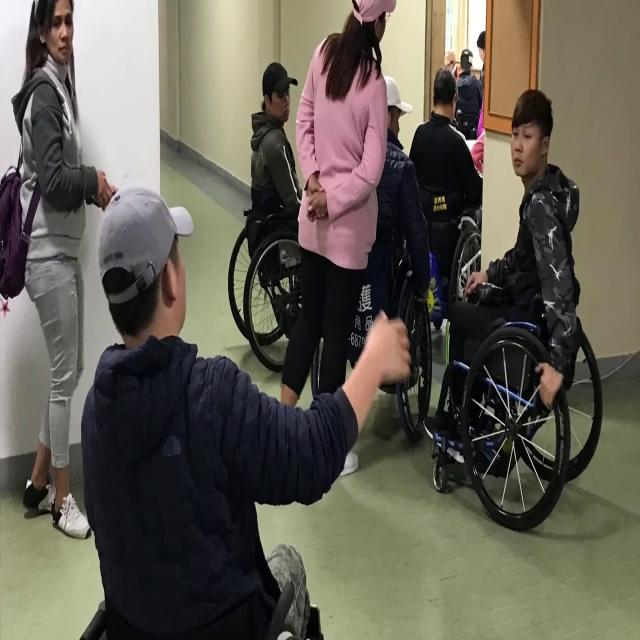wheelchairs: (423, 286, 607, 540), (299, 239, 440, 450), (220, 152, 341, 383)
